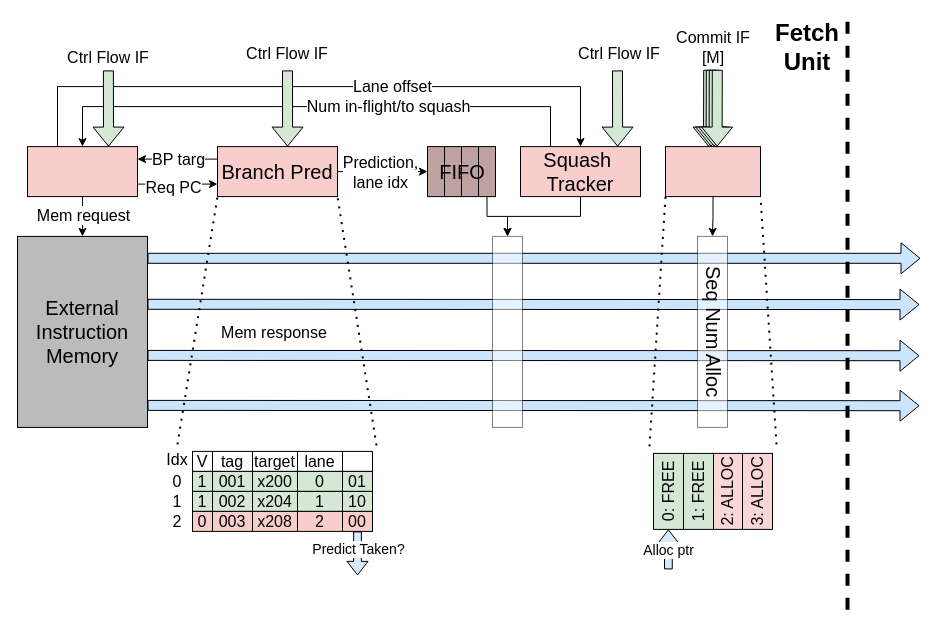
Image size: 938x630. Some labels were removed from this diagram. The shapes that lost their labels are listed below. From the top down, each one's centre as x and y in pixels, then its label:
point 82,171: Addr Gen
point 712,171: Seq Num Gen
point 507,331: Lane Active?
point 357,460: ctr
